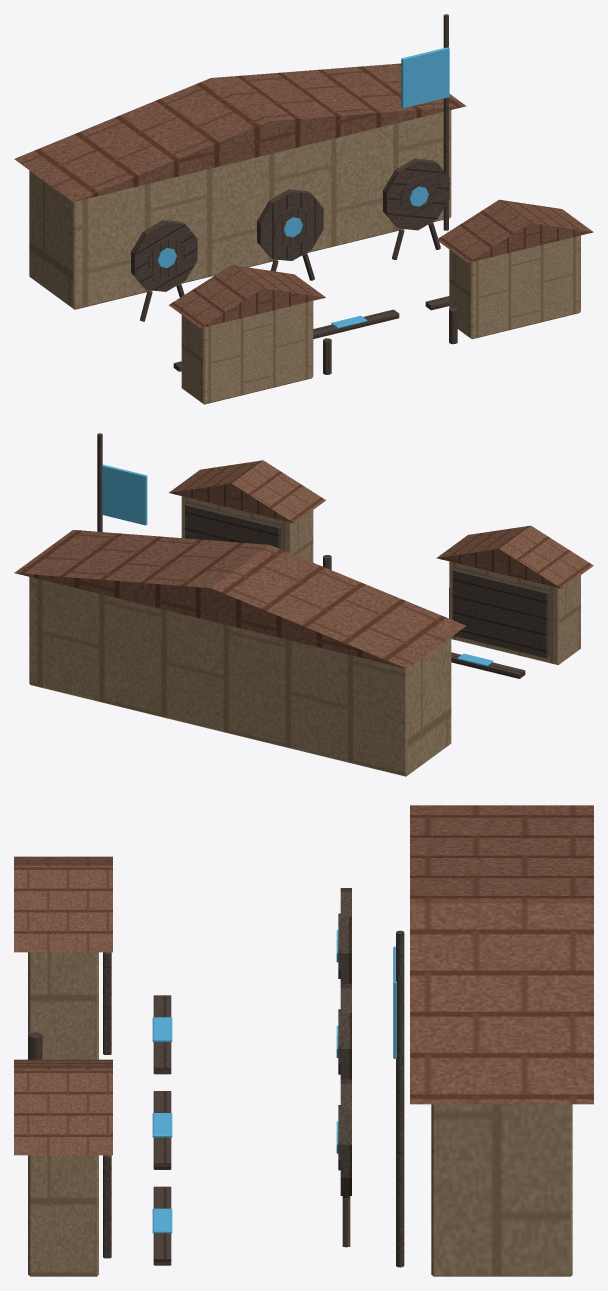
Rendered from edificio-b_000-e3-lod0-BvMt8PPf.glb.
3 views of the same model, one above another, from view 1: azimuth 30°, elevation 25°; view 2: azimuth 150°, elevation 25°; view 3: azimuth 270°, elevation 25° (orthographic). The views are drawn at different scales.
Parts seen in each view (by area): view 1: envolvente_arqueria, team_color; view 2: envolvente_arqueria, team_color; view 3: envolvente_arqueria, team_color.
Part boxes in pixels (bbox=[...]): envolvente_arqueria: bbox=[14, 14, 593, 404]; team_color: bbox=[157, 47, 449, 328]; envolvente_arqueria: bbox=[14, 433, 593, 776]; team_color: bbox=[102, 464, 493, 666]; envolvente_arqueria: bbox=[14, 805, 593, 1276]; team_color: bbox=[152, 930, 396, 1233].
Bounding box in the file's own units: 50 × 26.09 × 41.
2 materials, 1 textured.
